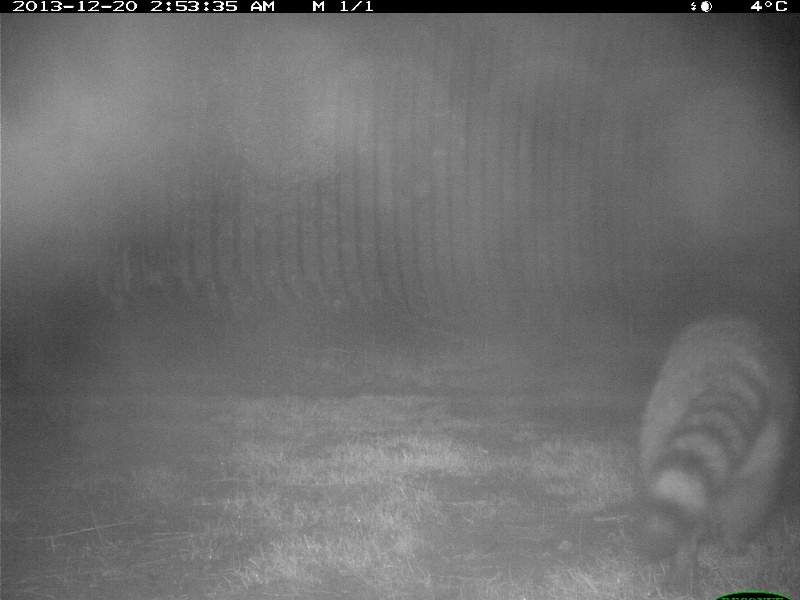raccoon: (631, 310, 800, 568)
